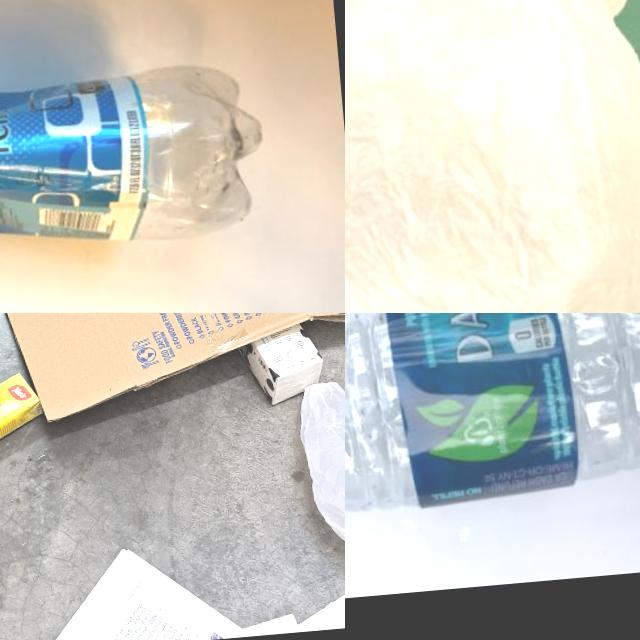caixinha: (244, 324, 326, 408), (0, 369, 48, 468)
garrafa plástica: (345, 313, 640, 528), (0, 56, 272, 272)
papel: (2, 525, 345, 640)
papelão: (0, 313, 345, 428)
sacola plástica: (345, 0, 640, 313), (297, 380, 345, 566)
